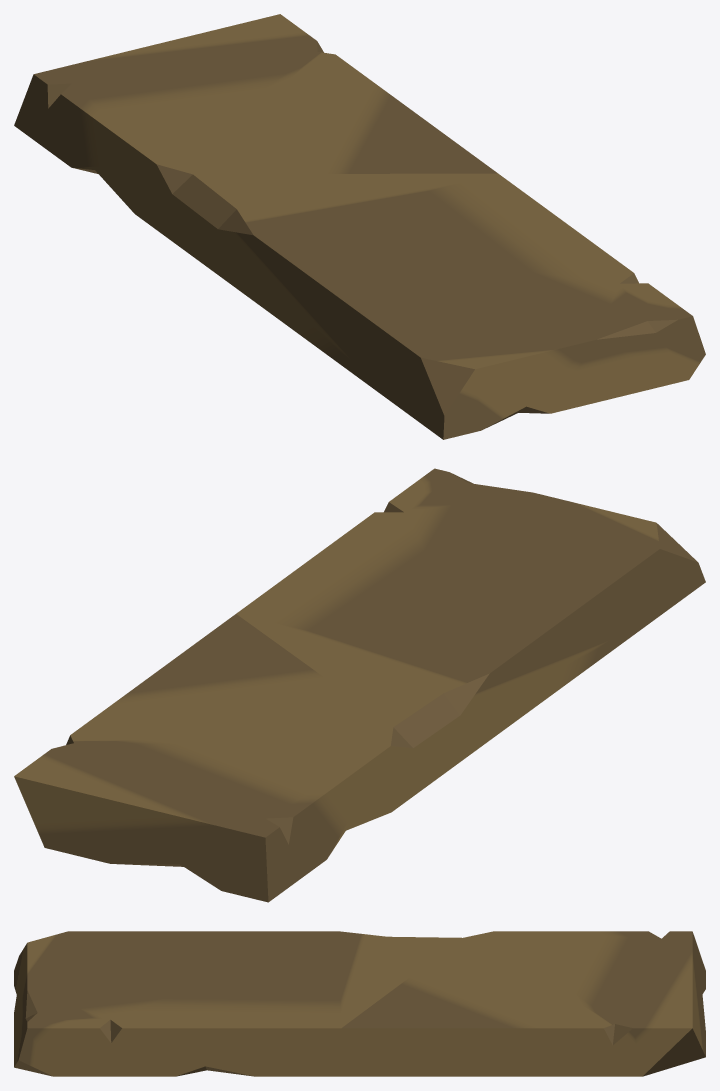
Rendered from SM_Prop_Plinth_07.fbx.
3 renders of one model, top to bottom at view 1: azimuth 30°, elevation 25°; view 2: azimuth 150°, elevation 25°; view 3: azimuth 270°, elevation 25°, orthographic. The views are drawn at different scales.
Visible parts, largest first — view 1: SM_Prop_Plinth_07; view 2: SM_Prop_Plinth_07; view 3: SM_Prop_Plinth_07.
Part boxes in pixels (x1,y1,x2,y2): SM_Prop_Plinth_07: [14, 14, 705, 439]; SM_Prop_Plinth_07: [14, 468, 705, 902]; SM_Prop_Plinth_07: [14, 931, 705, 1076].
Size of the model in its own units: 44.26 by 8.6 by 122.
